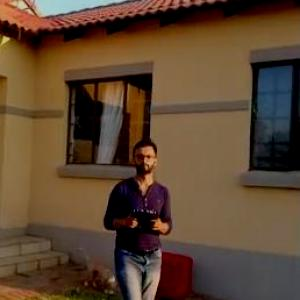follow: (95, 132, 177, 299)
null: (74, 241, 118, 295)
